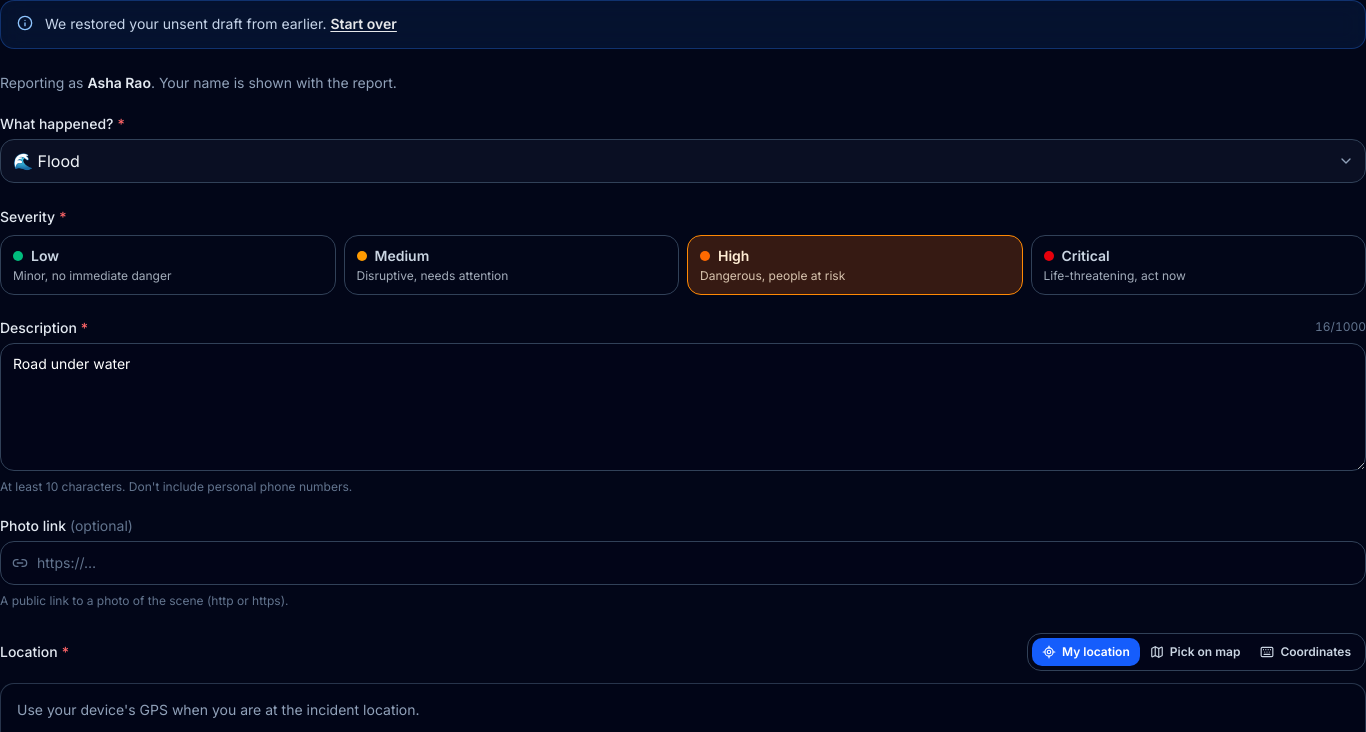
Test: IncidentForm › restores a draft and can start over
expect the text "We restored your unsent draft from earlier. Start over" is shown: met, box [45,13,397,36]
expect the text box labelled "Description *" holds "Road under water": met, box [0,343,1365,471]
Click the button "Start over" at (364, 24), box [330,13,397,36]
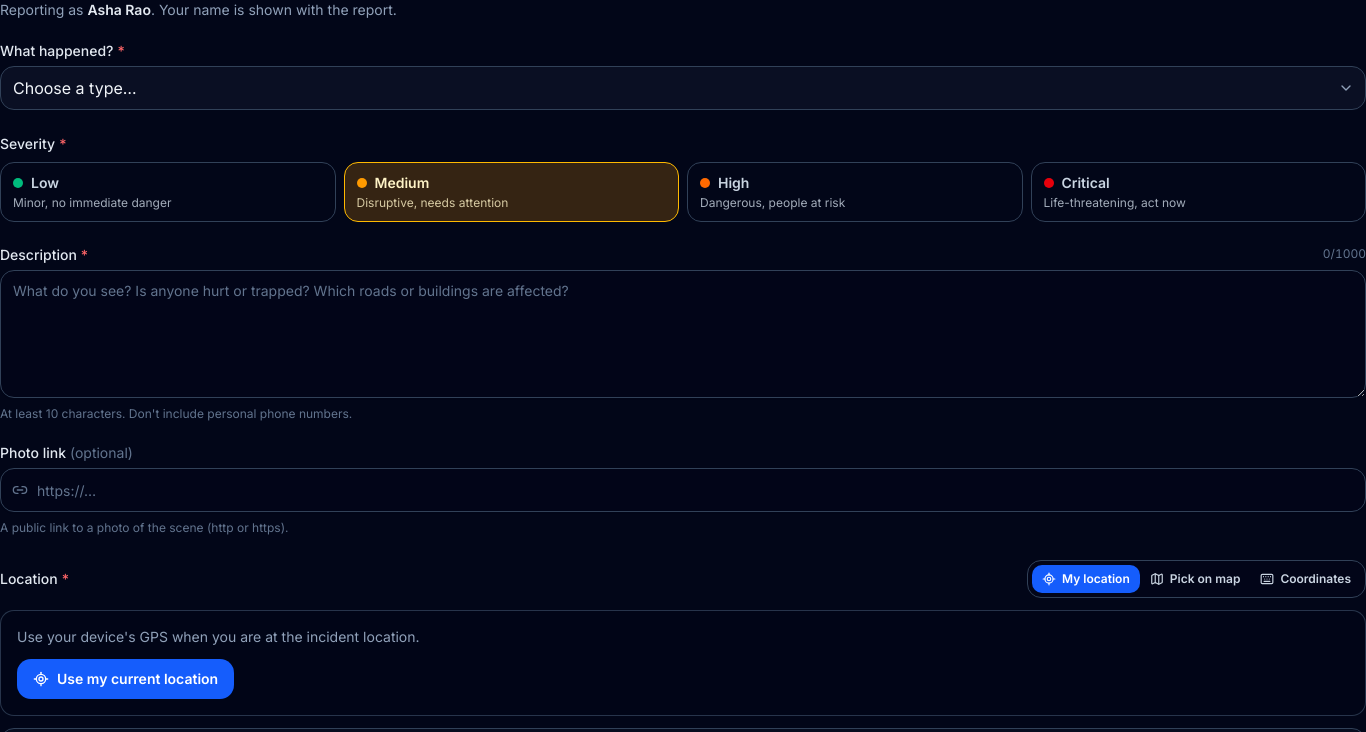
expect the text box labelled "Description *" is empty: met, box [0,270,1365,398]
expect the text "restored your unsent draft" is gone: met
